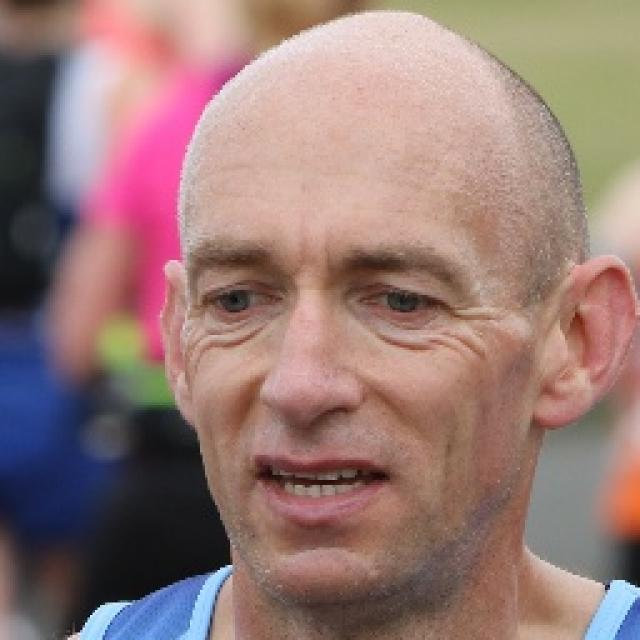earlobe: (531, 254, 640, 430), (158, 259, 200, 426)
